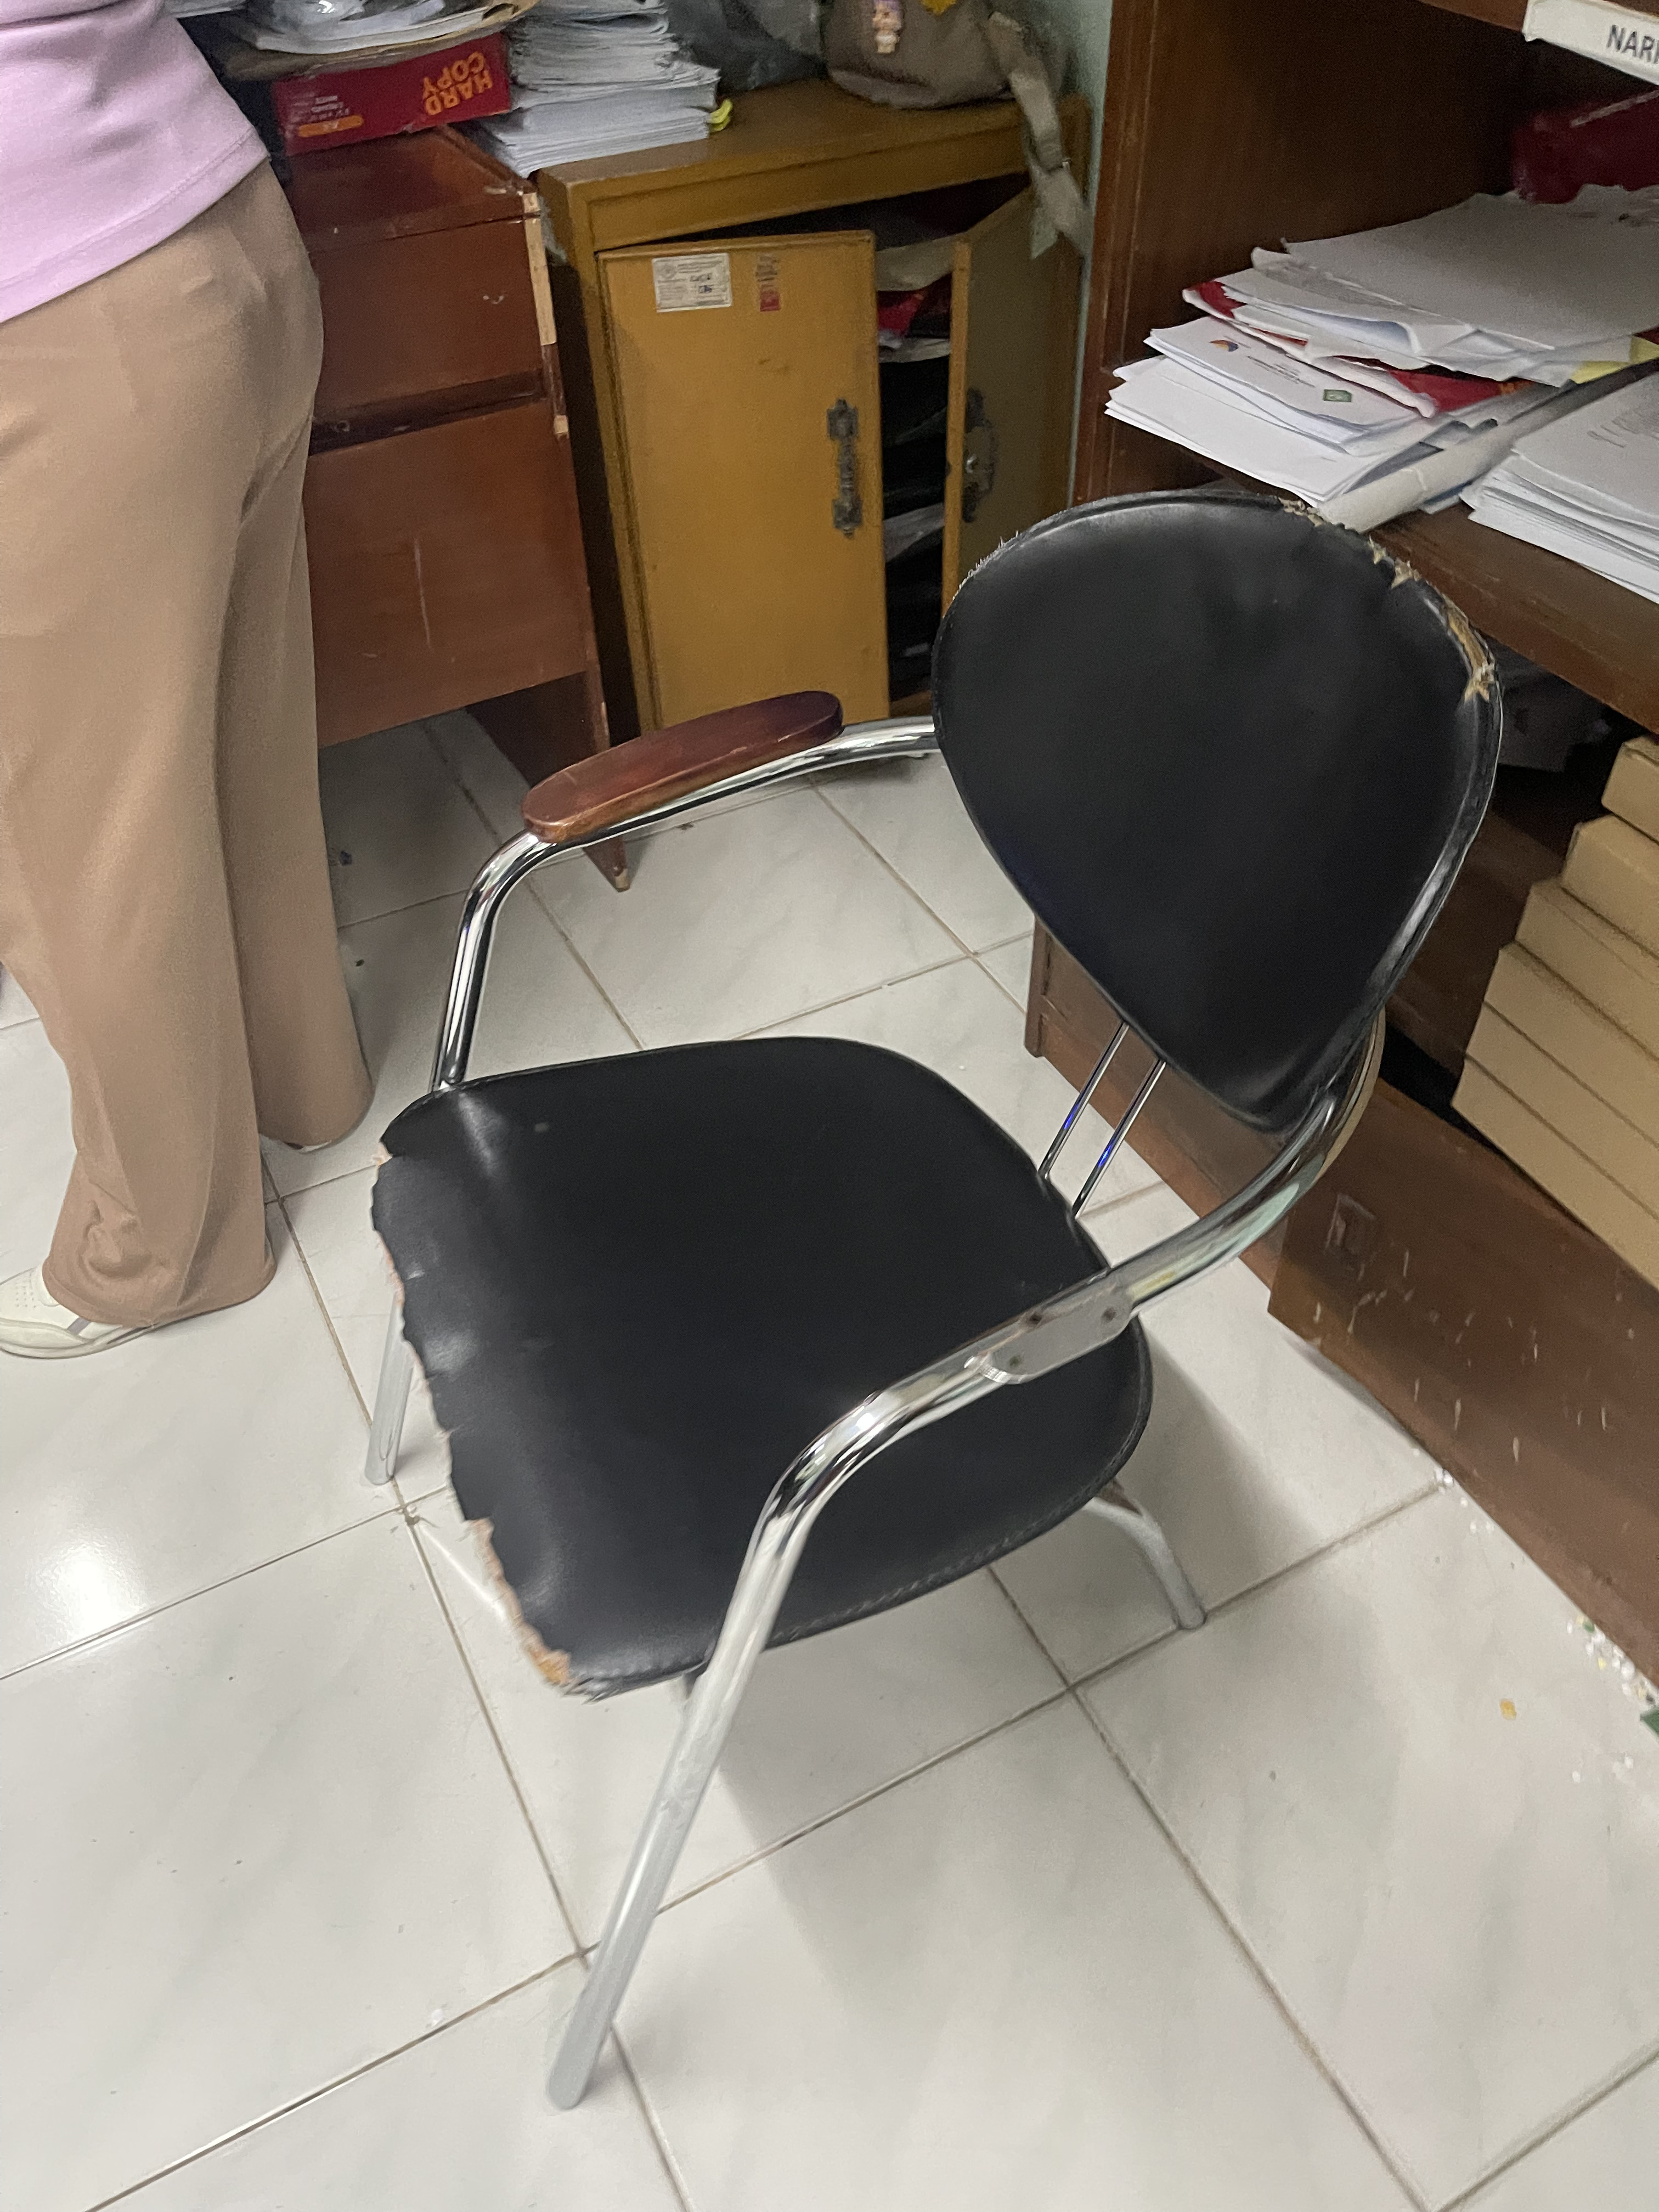chair1: (369, 486, 1506, 2114)
